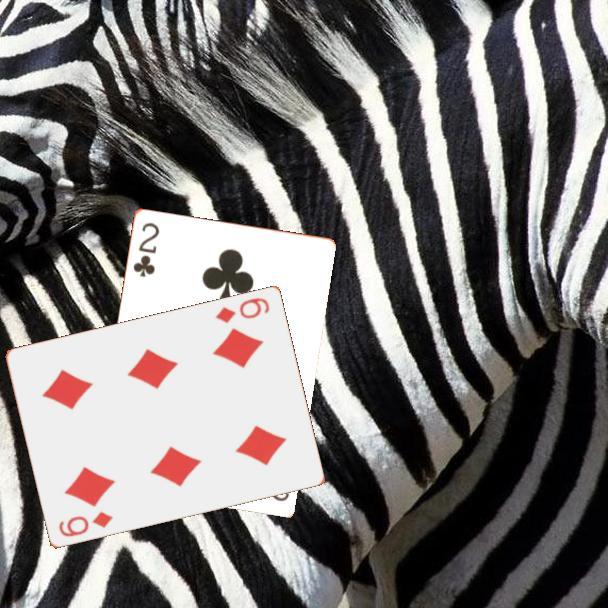c02: (129, 219, 162, 280)
d06: (211, 294, 272, 327), (55, 508, 115, 540)
